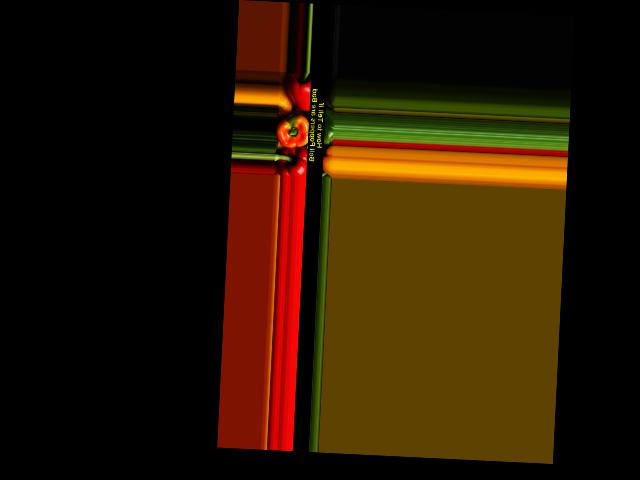bell_pepper: (273, 143, 309, 175)
